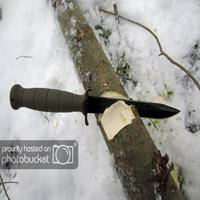knife: (7, 76, 182, 125)
